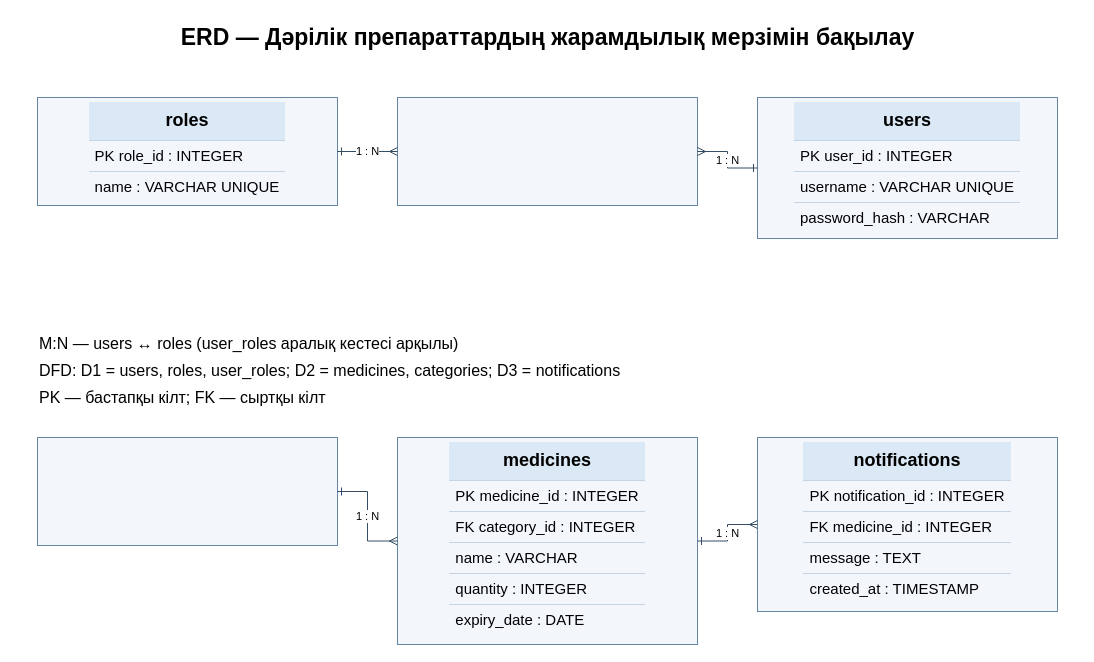
Some shapes in this 1094 by 662 pixel diagram are drawn without their labels. The box of each missing label's shape, as (x1, y1, x2, y2) in pixels:
categories PK category_id : INTEGER name : VARCHAR UNIQUE: (36, 436, 338, 546)
user_roles PK, FK user_id : INTEGER PK, FK role_id : INTEGER: (396, 96, 698, 206)
